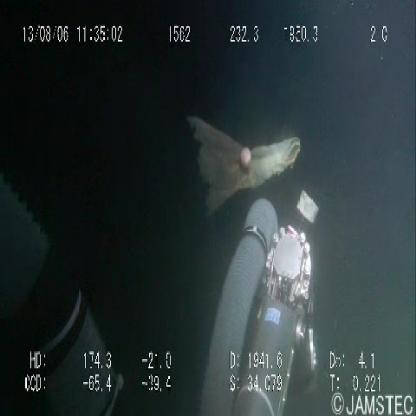Rov: (1, 126, 132, 416), (197, 178, 328, 416)
Rác: (183, 100, 302, 217)
